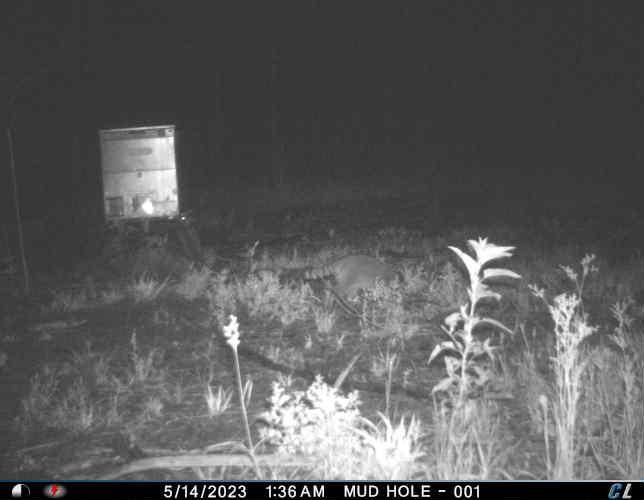Raccoon: (302, 252, 403, 301)
